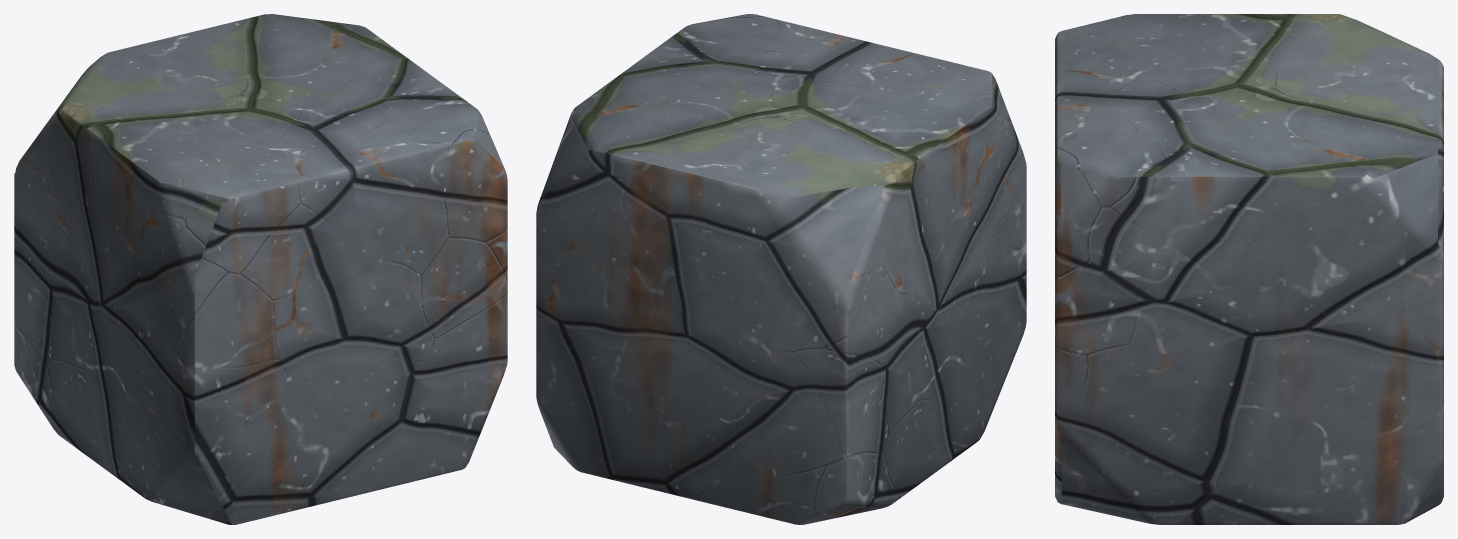
Rendered from rock_metal_medium_b.glb.
3 renders of one model, left to right at view 1: azimuth 30°, elevation 25°; view 2: azimuth 150°, elevation 25°; view 3: azimuth 270°, elevation 25°, orthographic. The views are drawn at different scales.
Visible parts, largest first — view 1: RockMetal_medium_b; view 2: RockMetal_medium_b; view 3: RockMetal_medium_b.
Boxes of the visible parts, x1,y1,x2,y2 form: RockMetal_medium_b: [14, 14, 507, 524]; RockMetal_medium_b: [536, 14, 1026, 524]; RockMetal_medium_b: [1055, 14, 1443, 524].
Size of the model in its own units: 1 by 1 by 1.
Materials: 1 (1 with a texture image).
